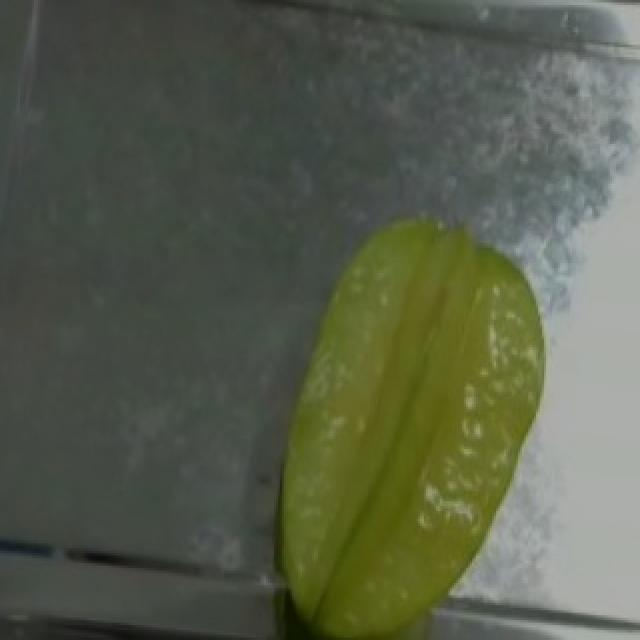fruit: (260, 198, 570, 573)
